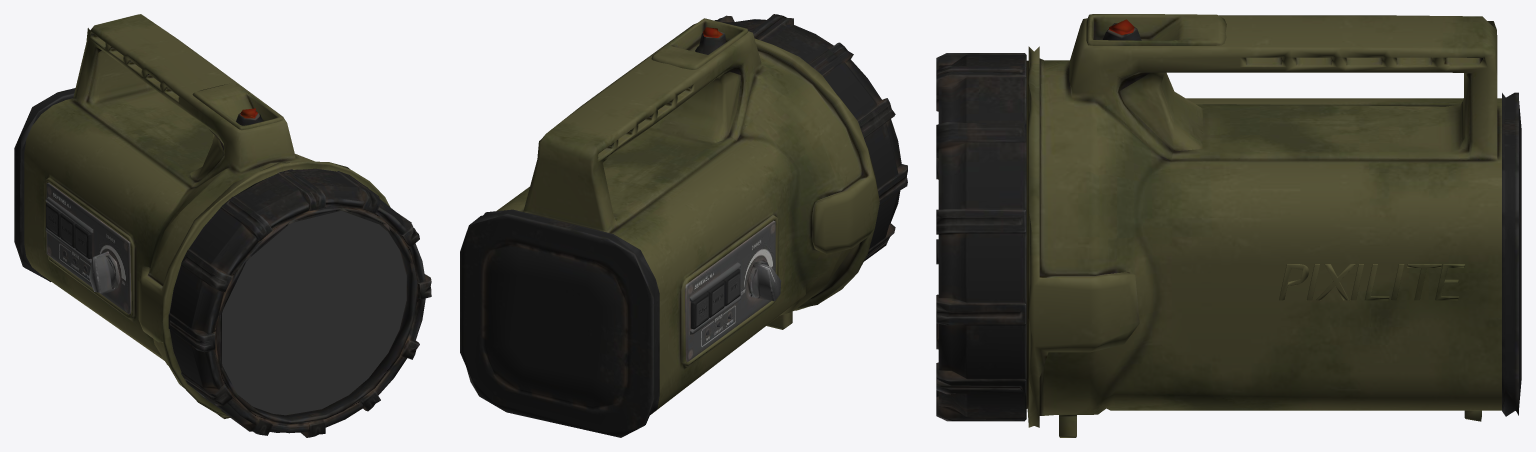
Rendered from deploy_floodlight.glb.
The picture shows the model from 3 angles, left to right: view 1: azimuth 30°, elevation 25°; view 2: azimuth 150°, elevation 25°; view 3: azimuth 270°, elevation 25°; orthographic projection. The views are drawn at different scales.
Parts seen in each view (by area): view 1: portable_searchlight; view 2: portable_searchlight; view 3: portable_searchlight.
Part boxes in pixels (box(x1,y1,x2,y2)): portable_searchlight: box(14, 14, 431, 437); portable_searchlight: box(460, 14, 907, 437); portable_searchlight: box(936, 14, 1521, 437).
Size of the model in its own units: 1.55 by 1.72 by 2.37.
2 materials, 2 textured.
